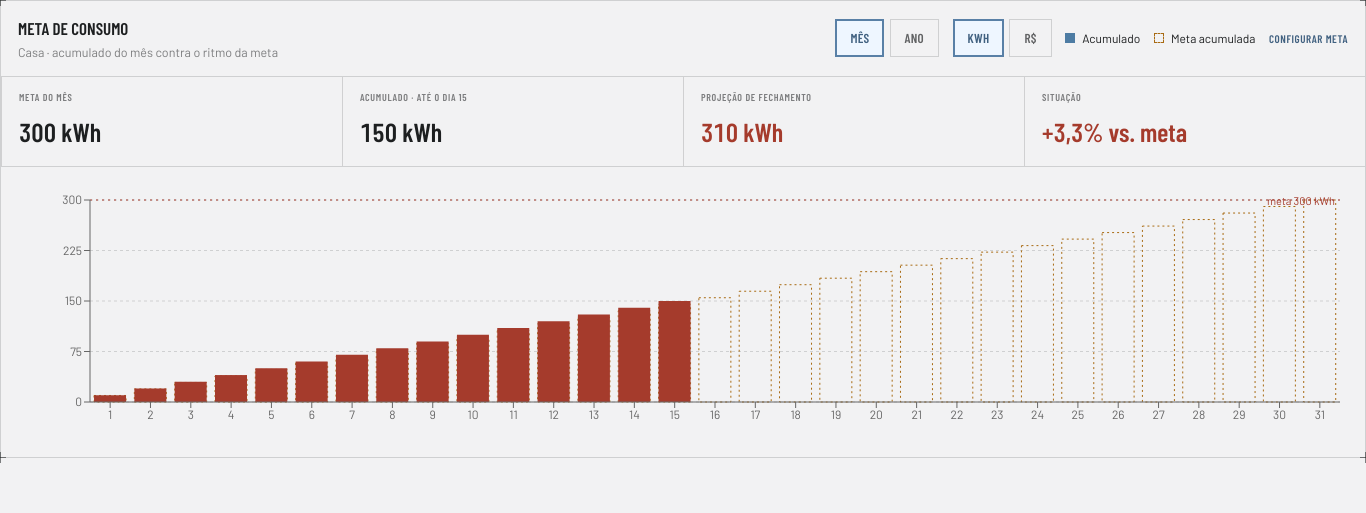
Test: GoalSection — Mês em R$ › a Situação continua no Mês em kWh e no Ano em R$
The image size is (1366, 513).
expect the text "Acumulado · até o dia 15" is shown: met, box [360,91,467,103]
expect the text "Situação" is shown: met, box [1042,91,1081,103]
Click the button with test id "goal-unit-BRL".
click(1031, 38)  # box [1010,19,1052,57]
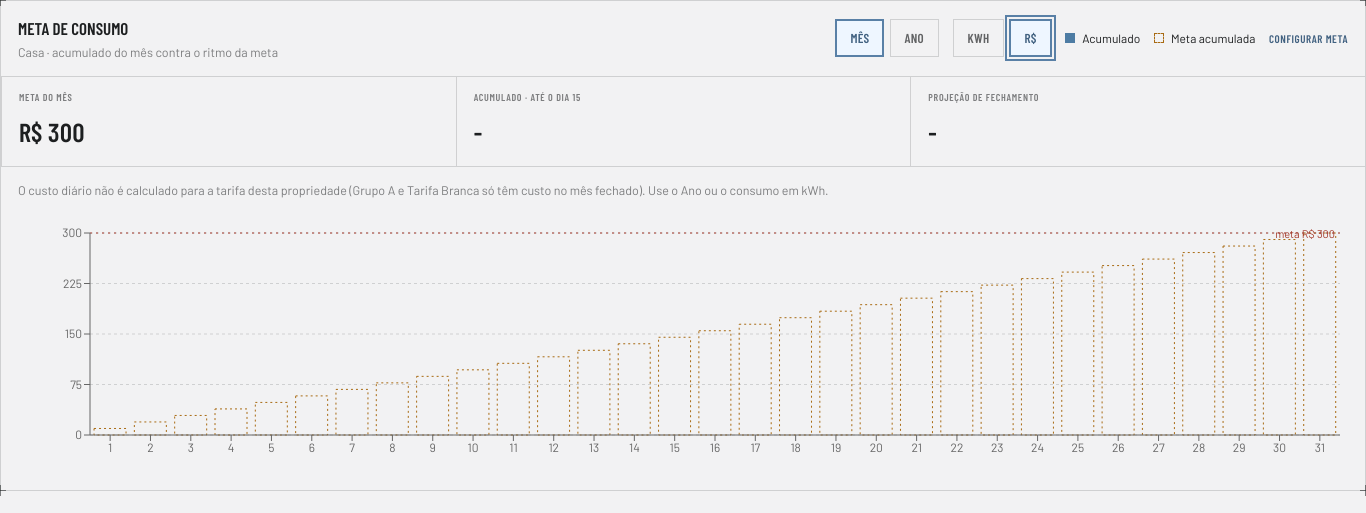
Click the button with test id "goal-period-year".
click(914, 38)  # box [890,19,939,57]
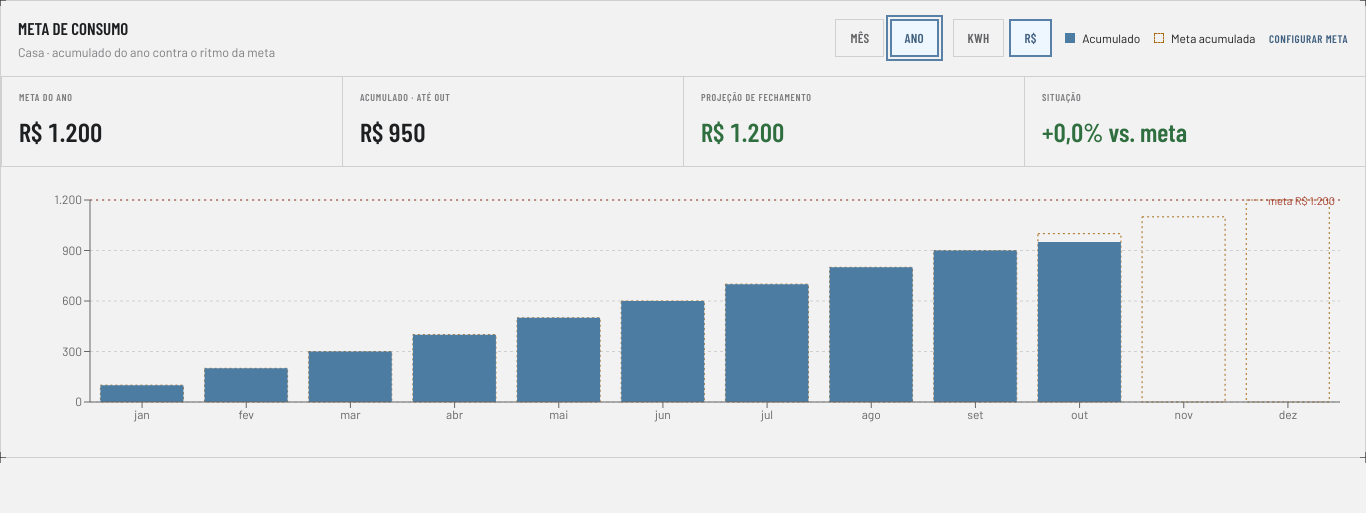
expect the text "Situação" is shown: met, box [1042,91,1081,103]
